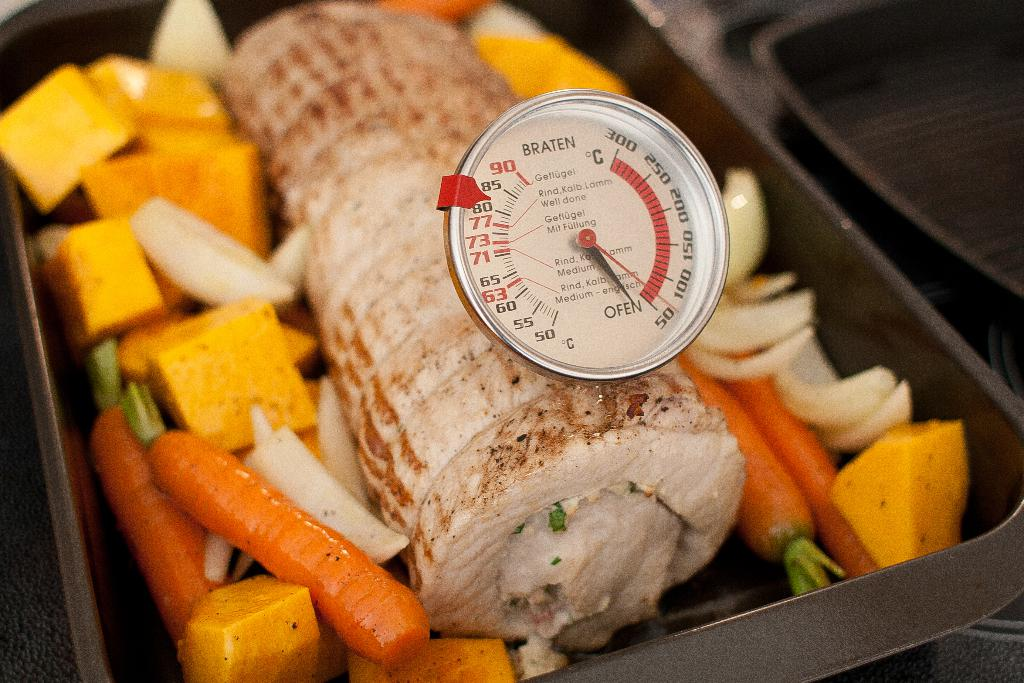Carrot: (74, 390, 449, 661), (675, 351, 846, 592), (721, 360, 885, 575)
